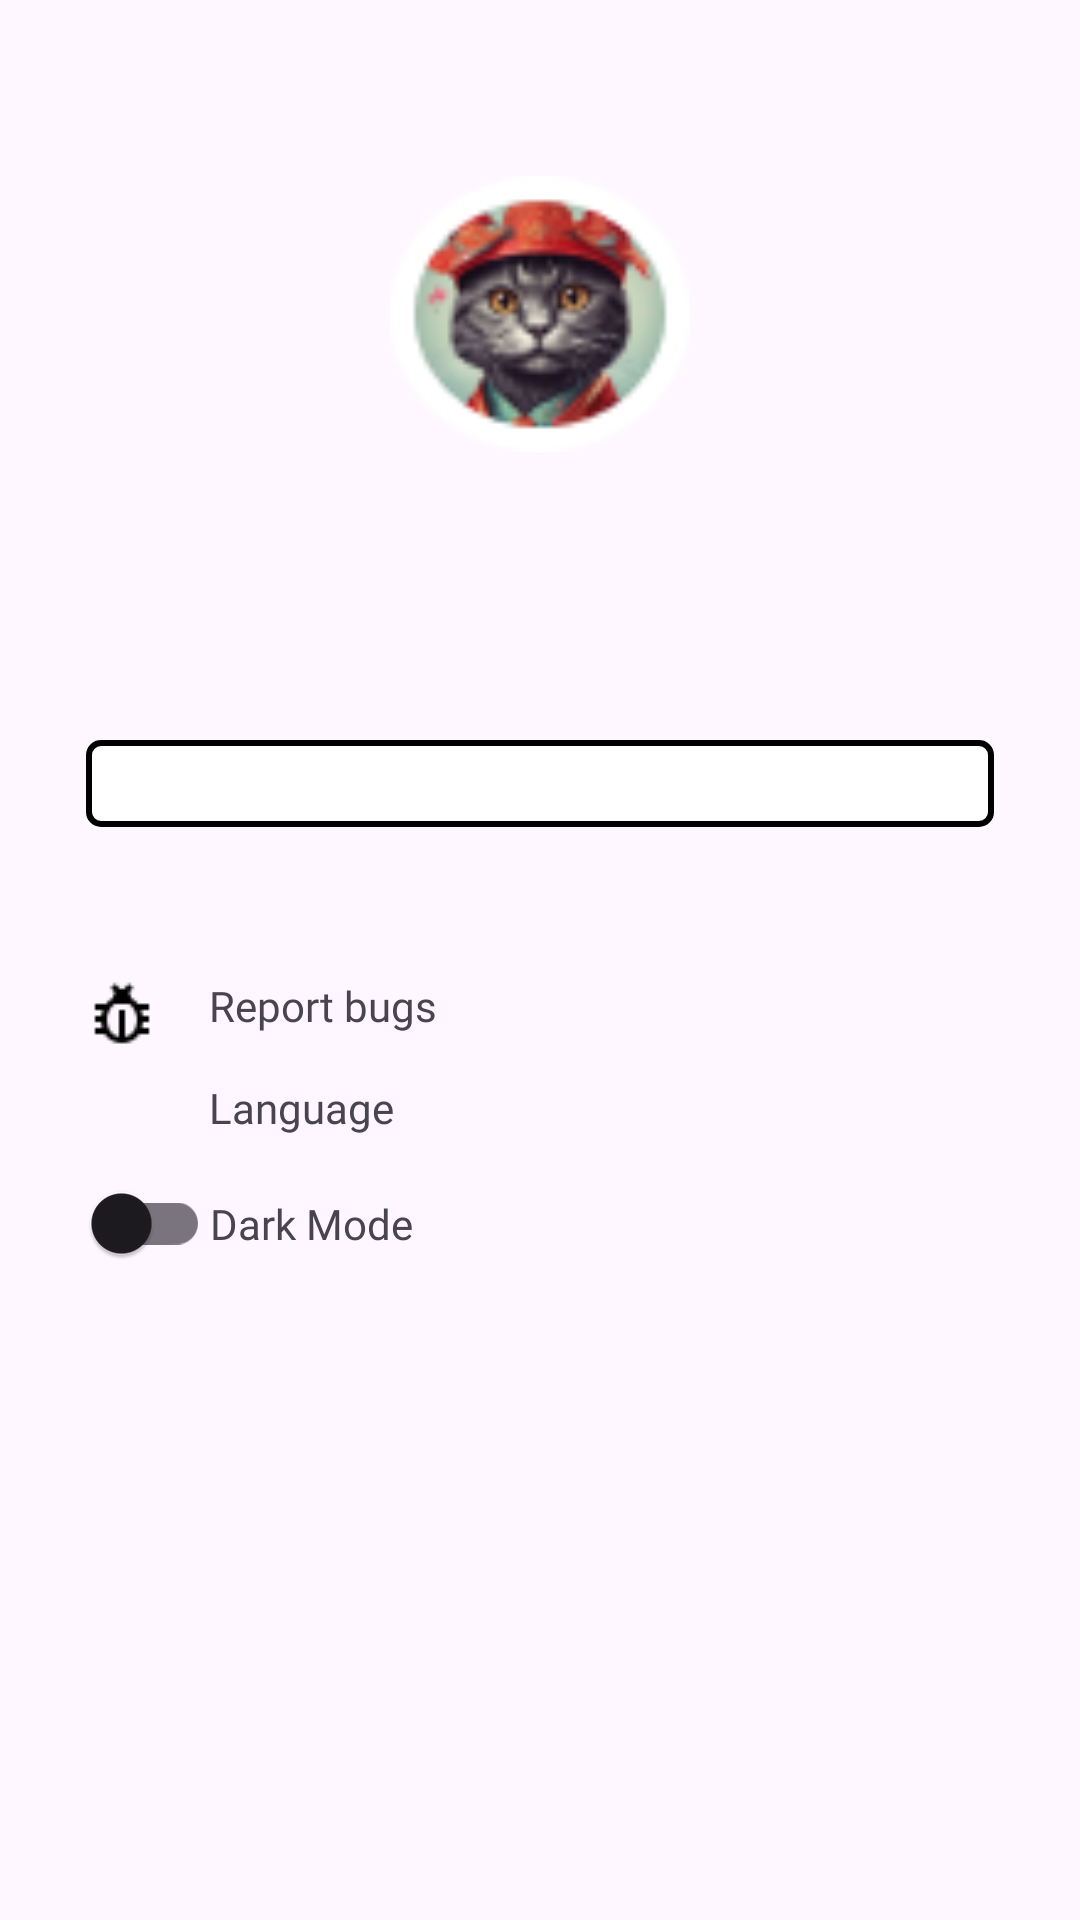

Where to tap for icons on this 1080×1920 app screen, as point (x, y):
profile bug: point (122, 1013)
